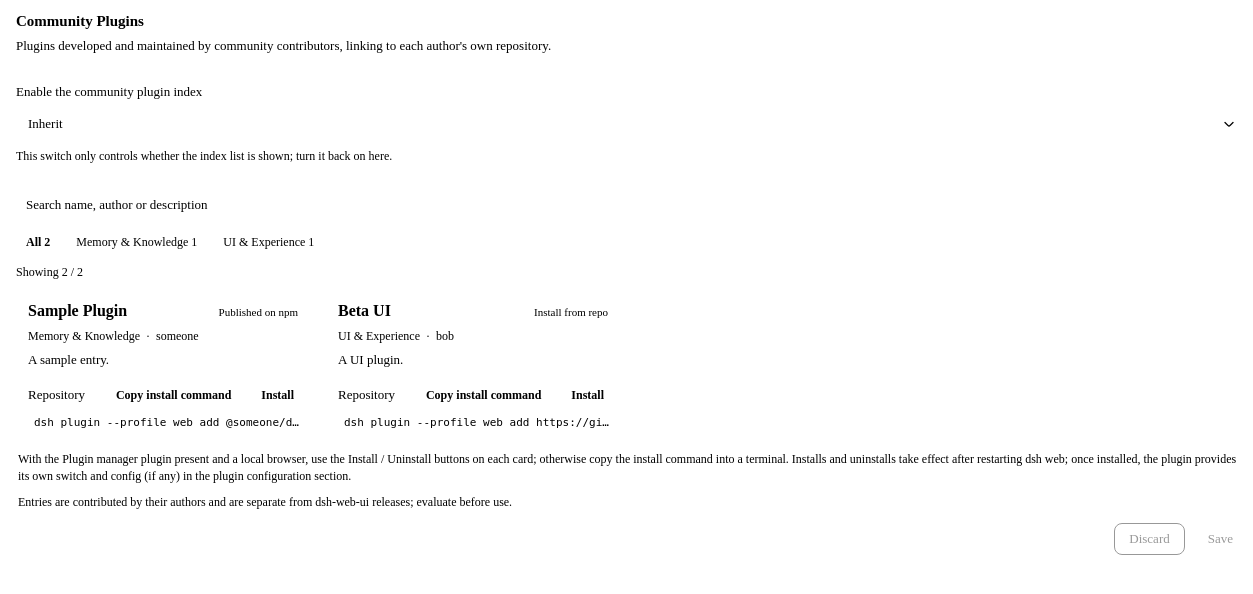
it: CommunityPluginsCard install states › shows the polled stage while installing and locks other cards
The image size is (1253, 594).
What coordinates should you click on to do the following:
click the button "Install" below "Sample Plugin"
I would click on:
 (278, 395)
Its box is [249,382,306,408].
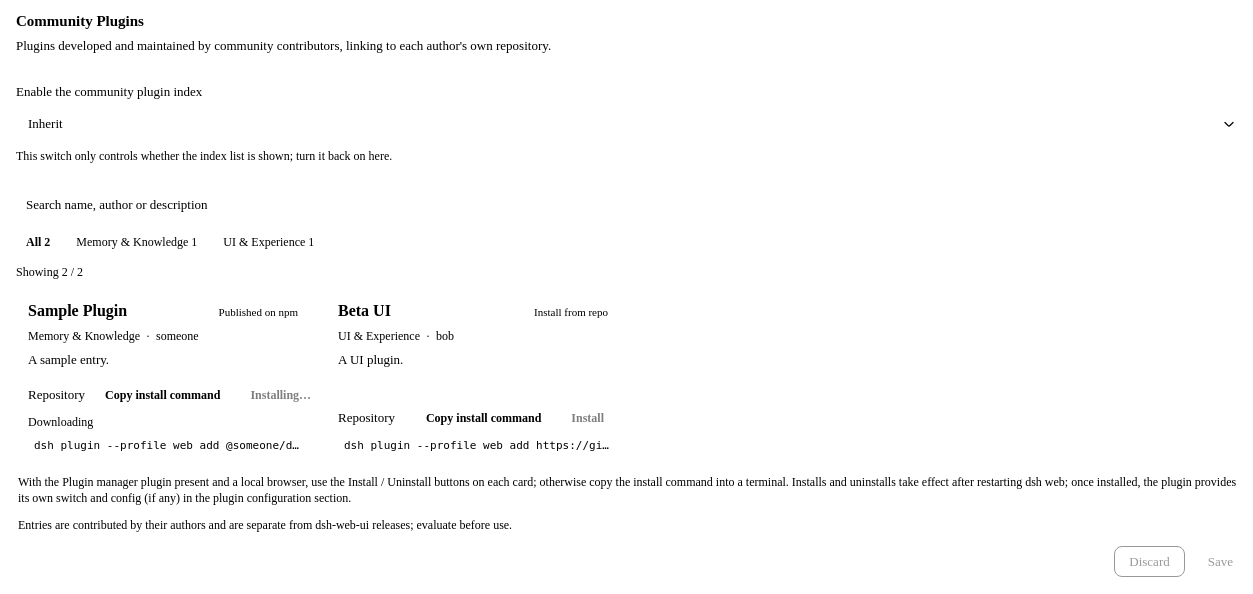
expect the text "Downloading" is shown: met, box [28,415,93,429]
expect the button "Installing…" is disabled: met, box [238,382,323,408]
expect the button "Install" is disabled: met, box [559,404,616,430]
